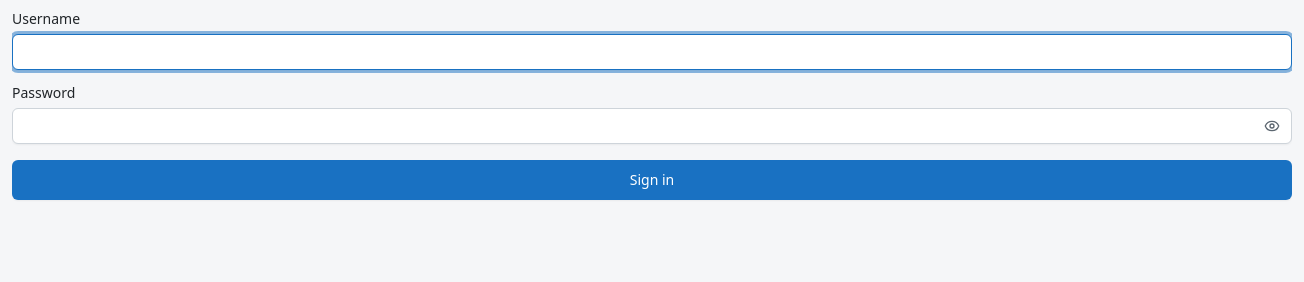
Test: LoginForm › shows a readable message when sign-in fails
Type "alice" into the field labelled "Username" at (652, 52), box [12,34,1292,70]
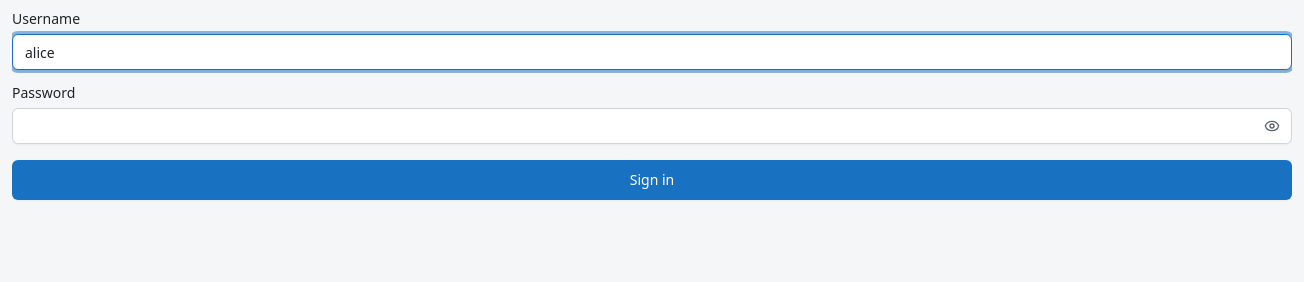
Type "nope" into the password field labelled "Password" at (652, 126), box [12,108,1292,144]
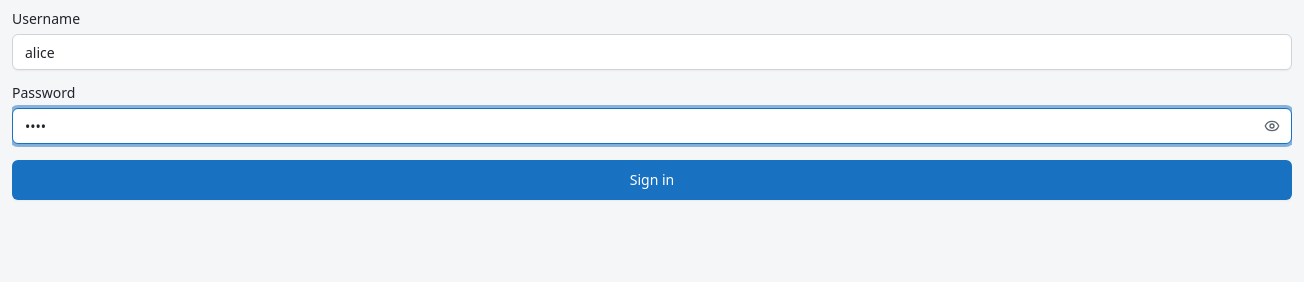
Click the button "Sign in" at (652, 180), box [12,160,1292,200]
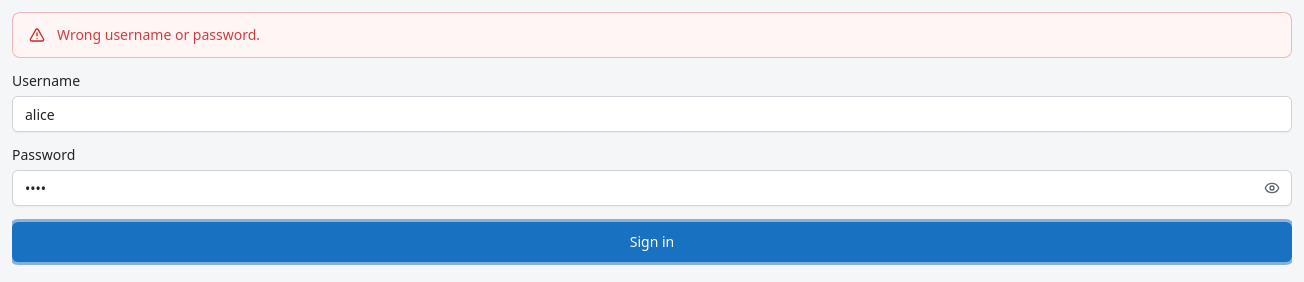
Expected: the message reads "Wrong username or password.", [57,25,260,44]
